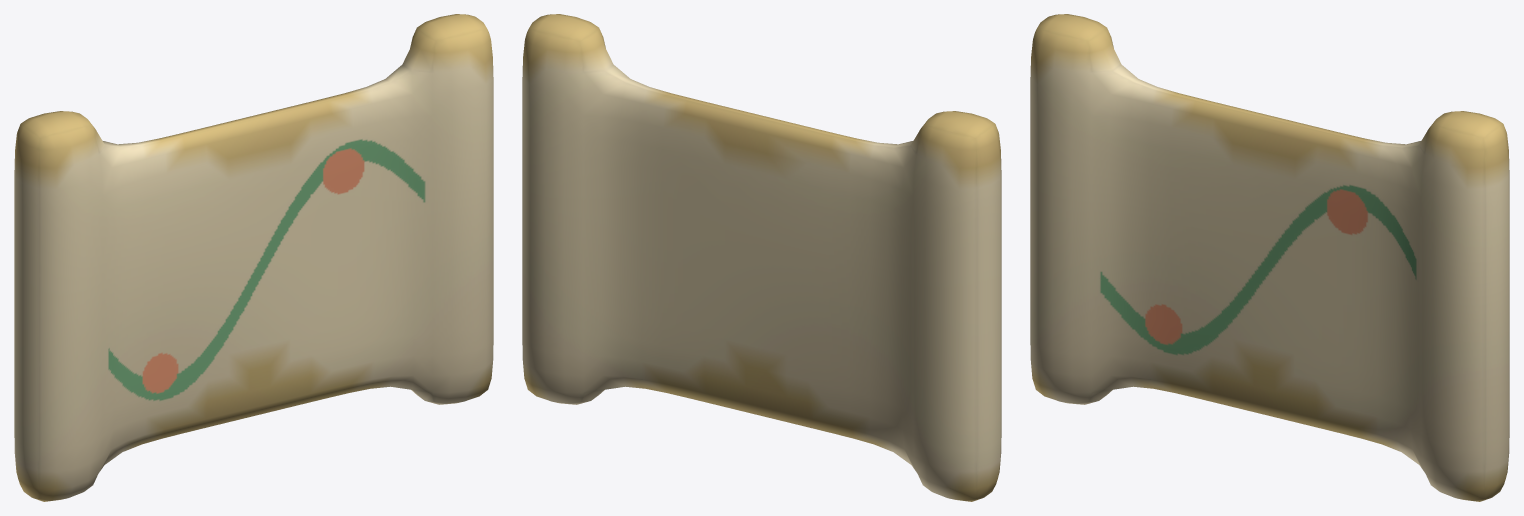
File: item_map.glb
3 renders of one model, left to right at view 1: azimuth 30°, elevation 25°; view 2: azimuth 150°, elevation 25°; view 3: azimuth 330°, elevation 25°, orthographic.
Parts seen in each view (by area): view 1: map; view 2: map; view 3: map.
Part boxes in pixels (x1=…): map: x1=14, y1=14, x2=493, y2=501; map: x1=522, y1=14, x2=1001, y2=501; map: x1=1030, y1=14, x2=1509, y2=501.
Size of the model in its own units: 0.5616 by 0.4352 by 0.0803.
Materials: 1 (1 with a texture image).
